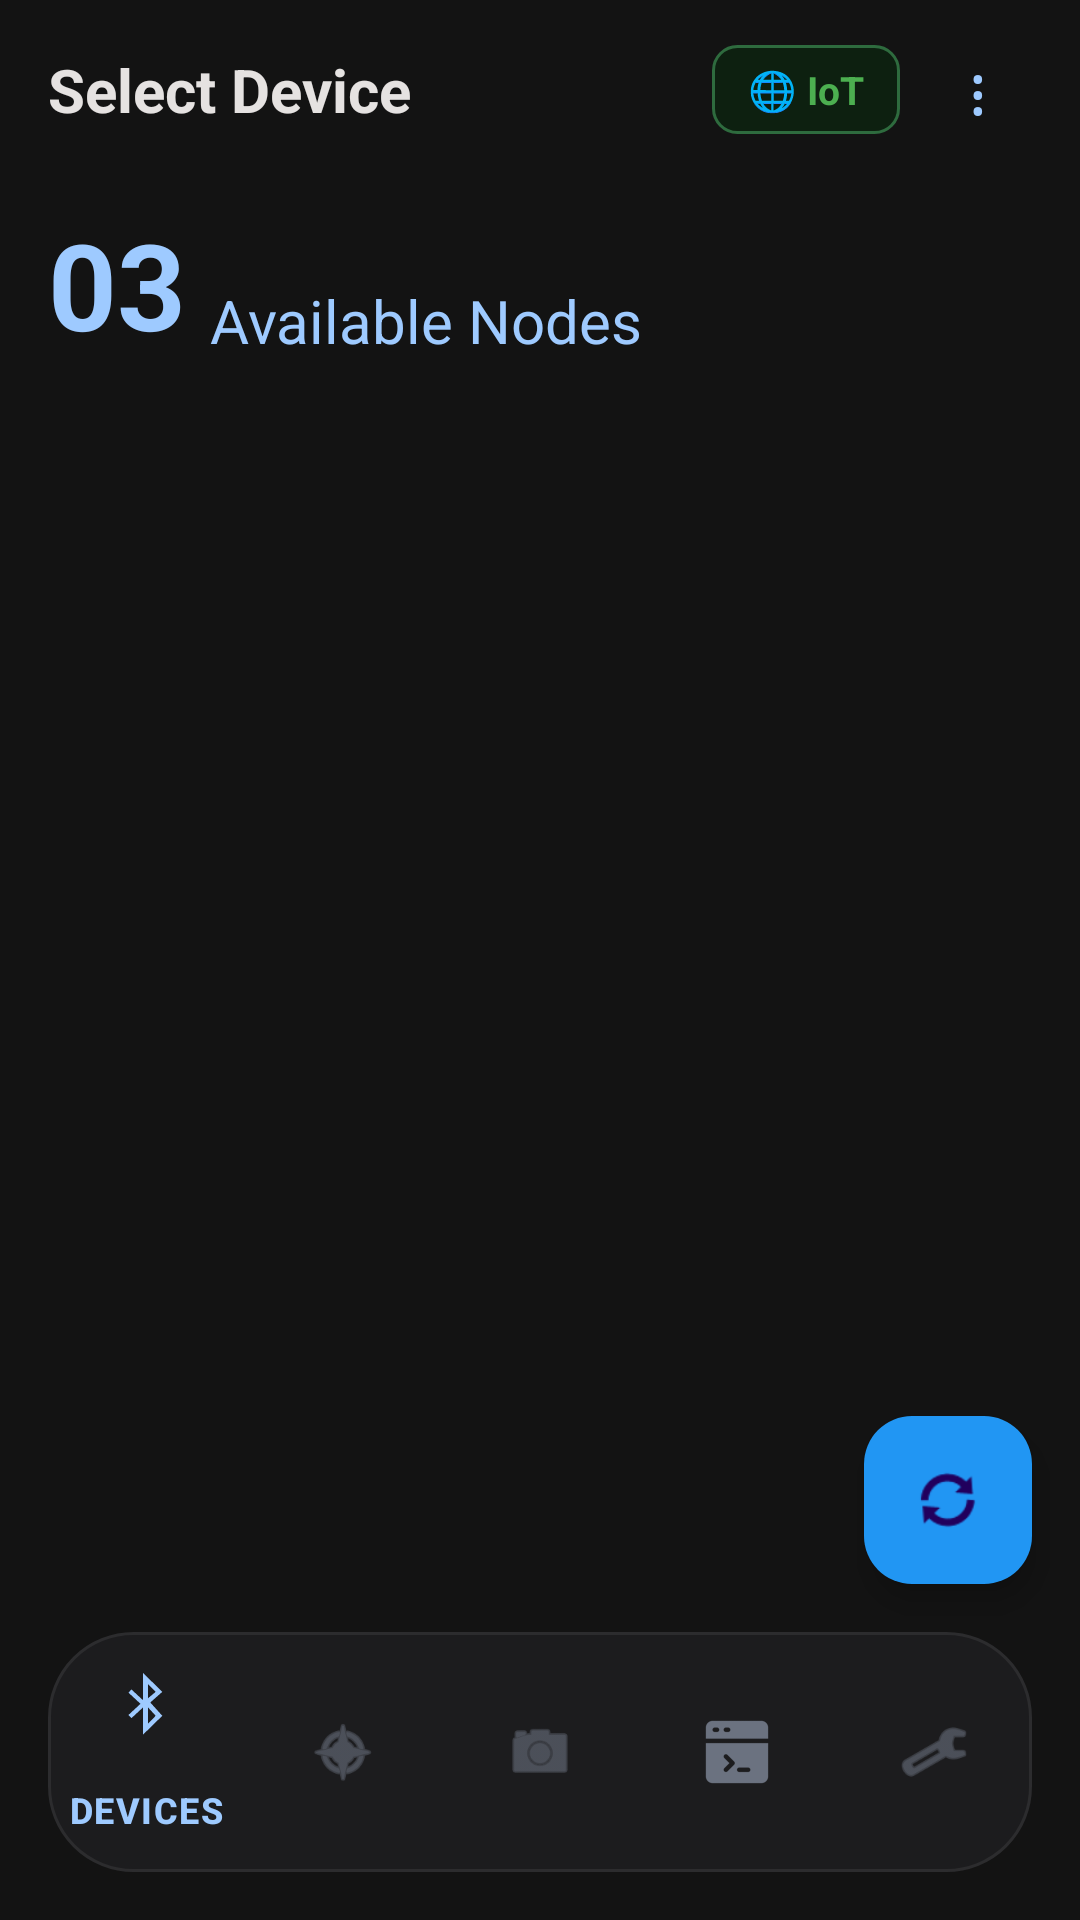

Icons on this 1080*1920 Android screen, each with its box as (x1, y1, x2, y2):
popup sync: (864, 1416, 1032, 1584)
